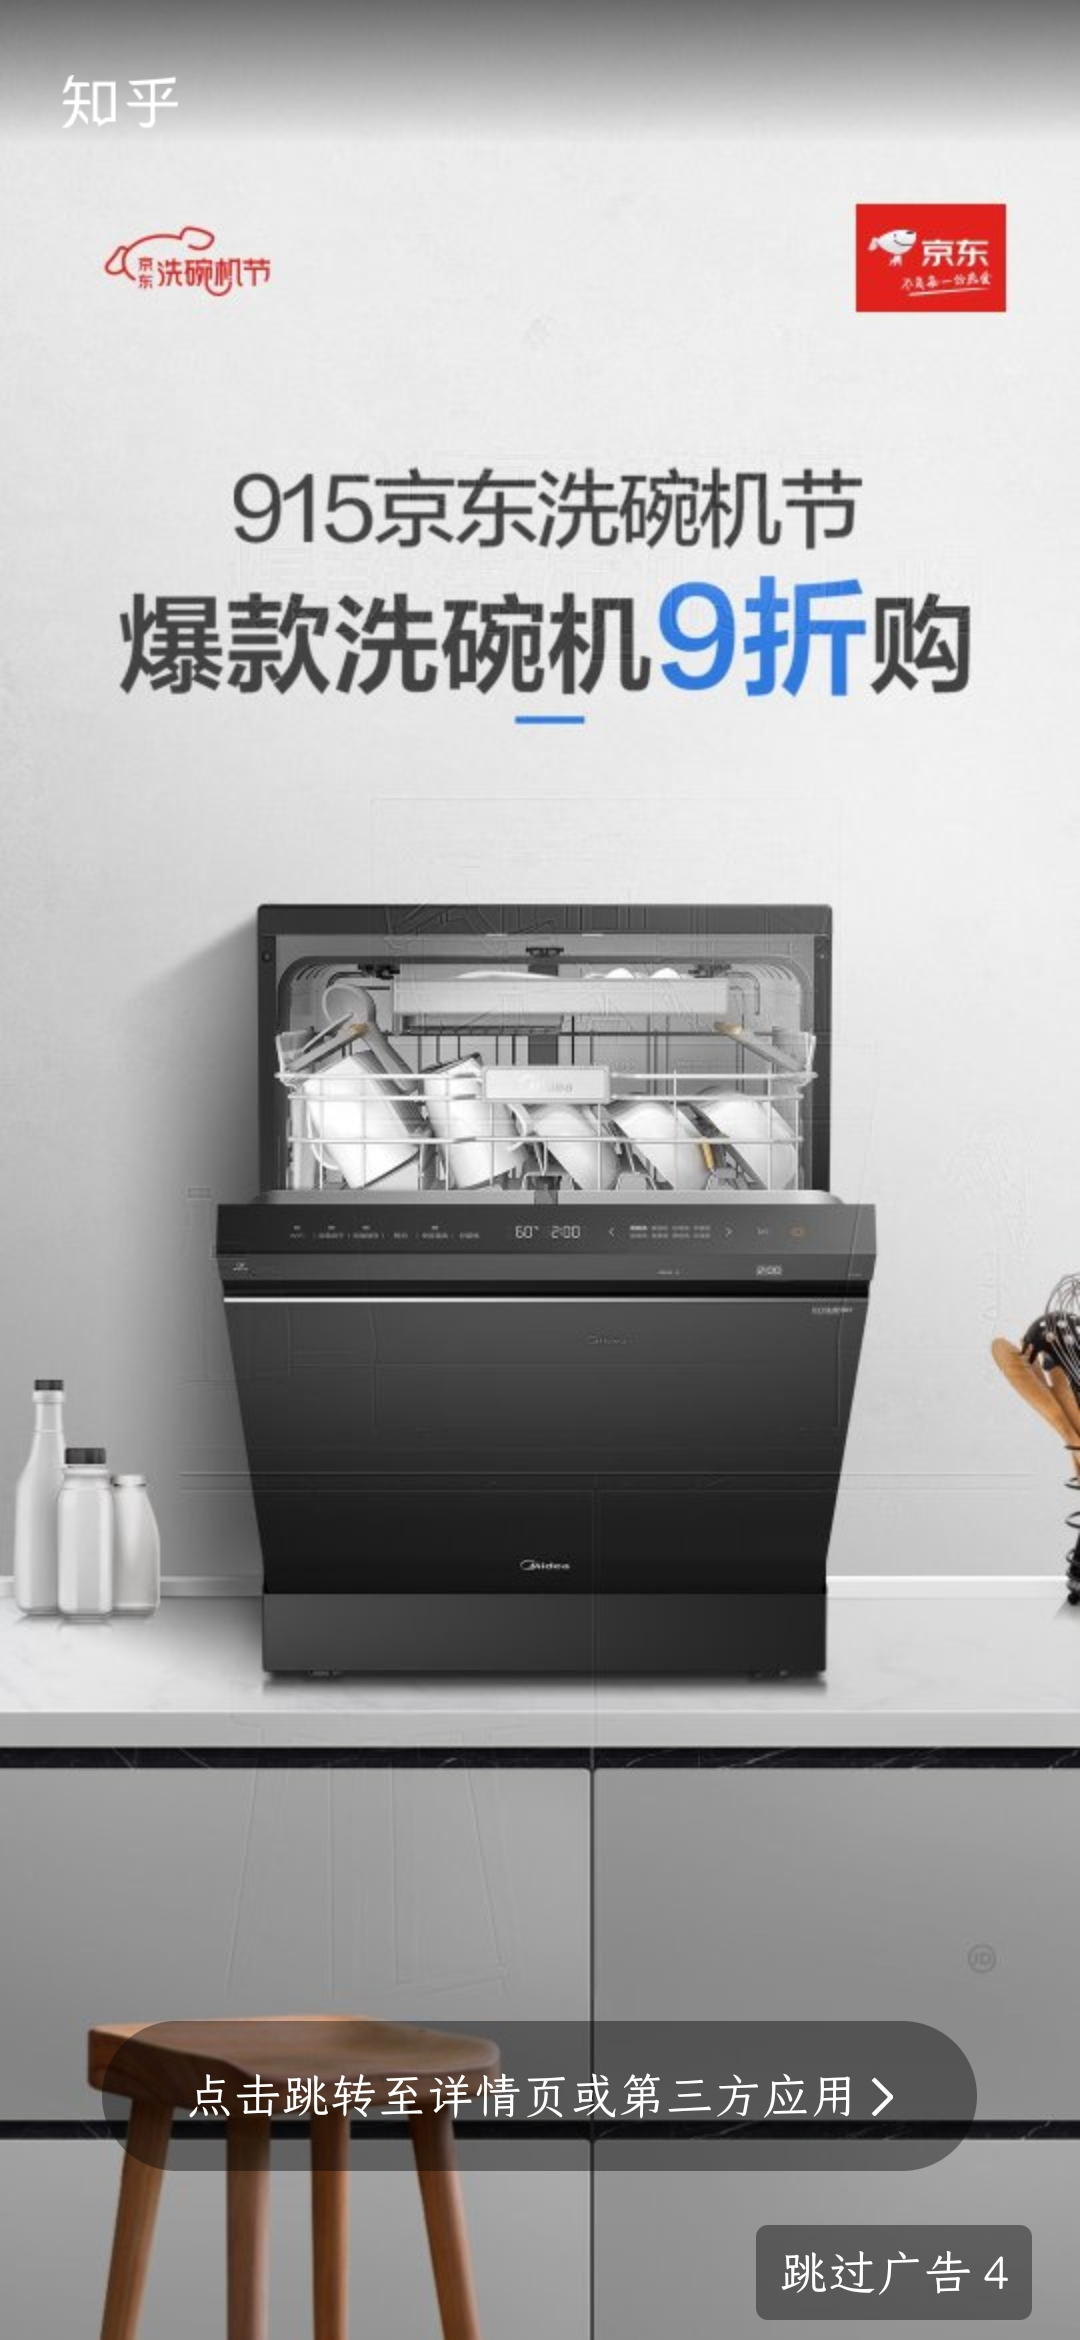skip: (759, 2233, 1035, 2318)
